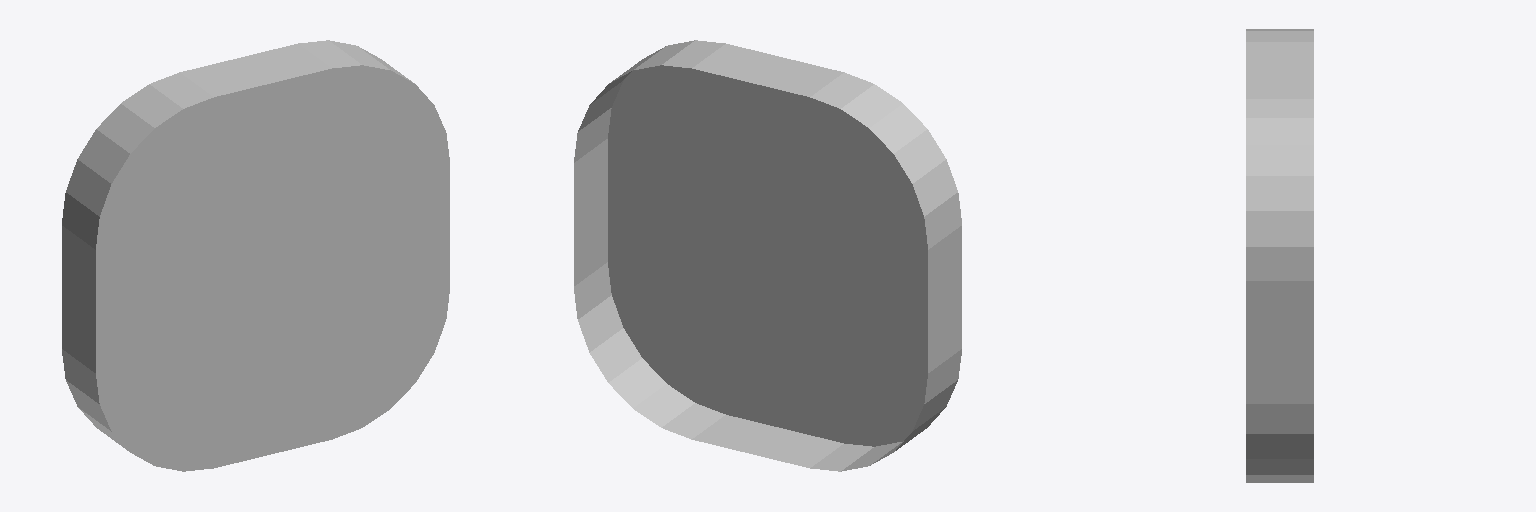
The model's file is original-35.obj.
The picture shows the model from 3 angles: view 1: azimuth 30°, elevation 25°; view 2: azimuth 150°, elevation 25°; view 3: azimuth 270°, elevation 25°; orthographic projection.
Parts seen in each view (by area): view 1: button17/button/mesh16/mesh16-geometry#mesh16-geometry; view 2: button17/button/mesh16/mesh16-geometry#mesh16-geometry; view 3: button17/button/mesh16/mesh16-geometry#mesh16-geometry.
Boxes of the visible parts, x1,y1,x2,y2 form: button17/button/mesh16/mesh16-geometry#mesh16-geometry: [62, 40, 449, 471]; button17/button/mesh16/mesh16-geometry#mesh16-geometry: [574, 40, 961, 471]; button17/button/mesh16/mesh16-geometry#mesh16-geometry: [1246, 29, 1313, 482].
Bounding box in the file's own units: 0.0476 × 0.0476 × 0.0079.